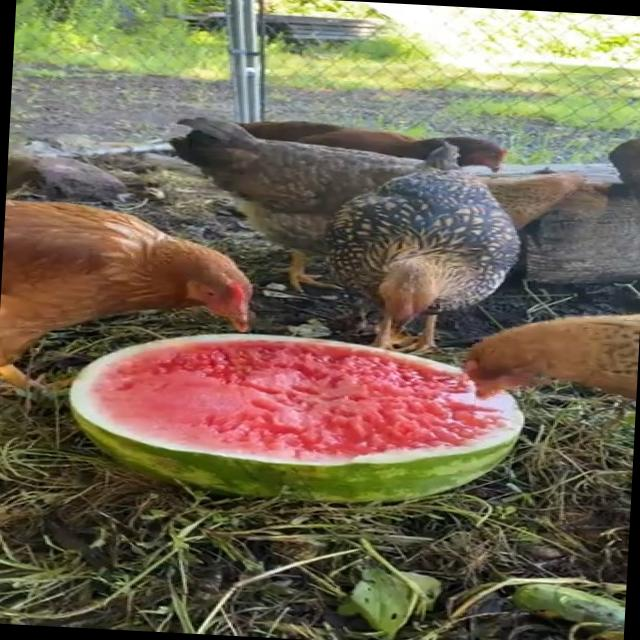feeding: (284, 138, 574, 358), (0, 191, 269, 375), (495, 305, 640, 394)
